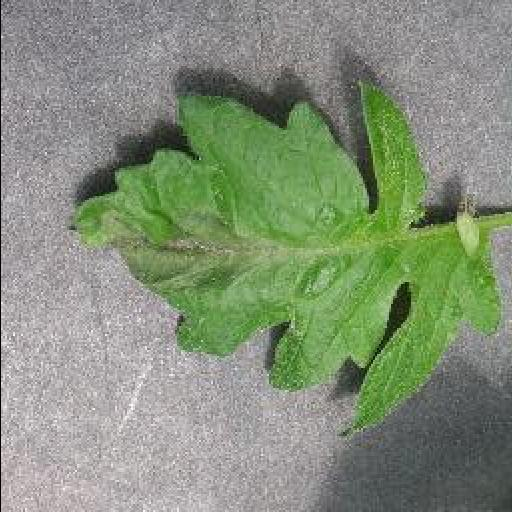disease_tomato: (62, 76, 506, 436)
